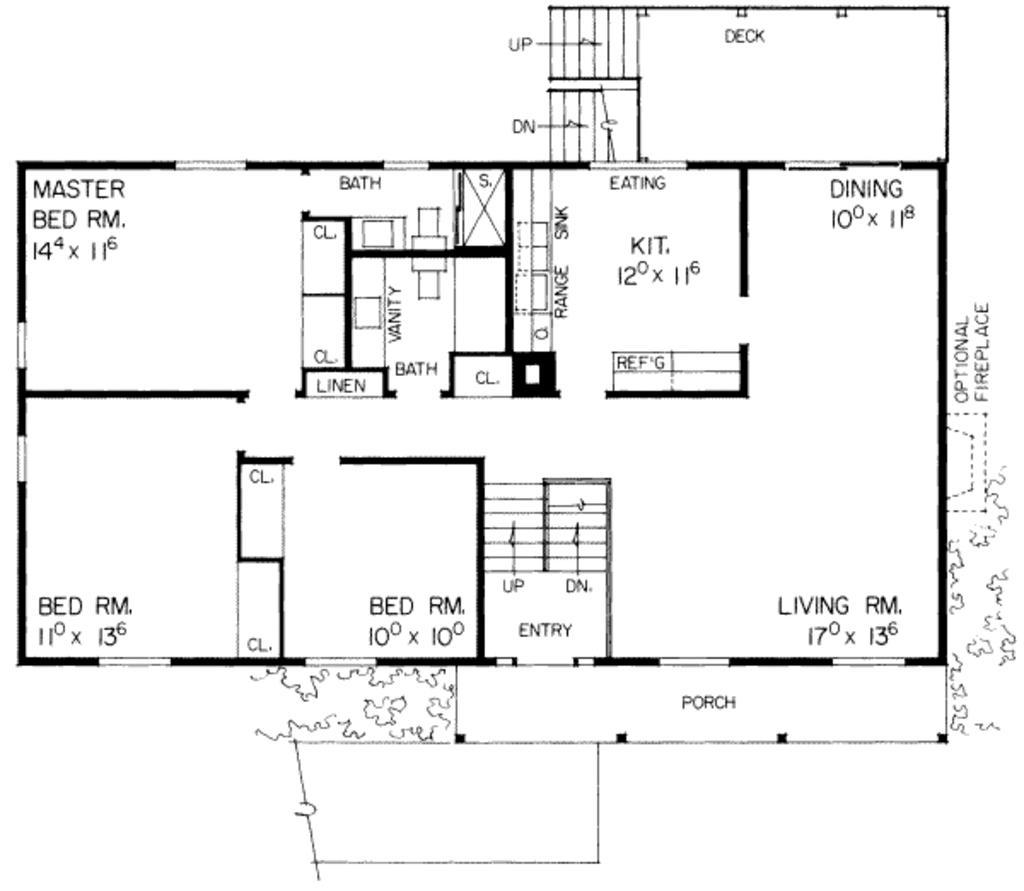stairs: (482, 472, 615, 660), (508, 3, 645, 158)
window: (825, 653, 908, 671), (167, 155, 249, 173), (93, 650, 174, 668), (655, 653, 735, 670), (779, 157, 847, 174), (302, 655, 373, 669), (383, 156, 431, 176), (14, 430, 31, 486), (15, 317, 28, 374)
